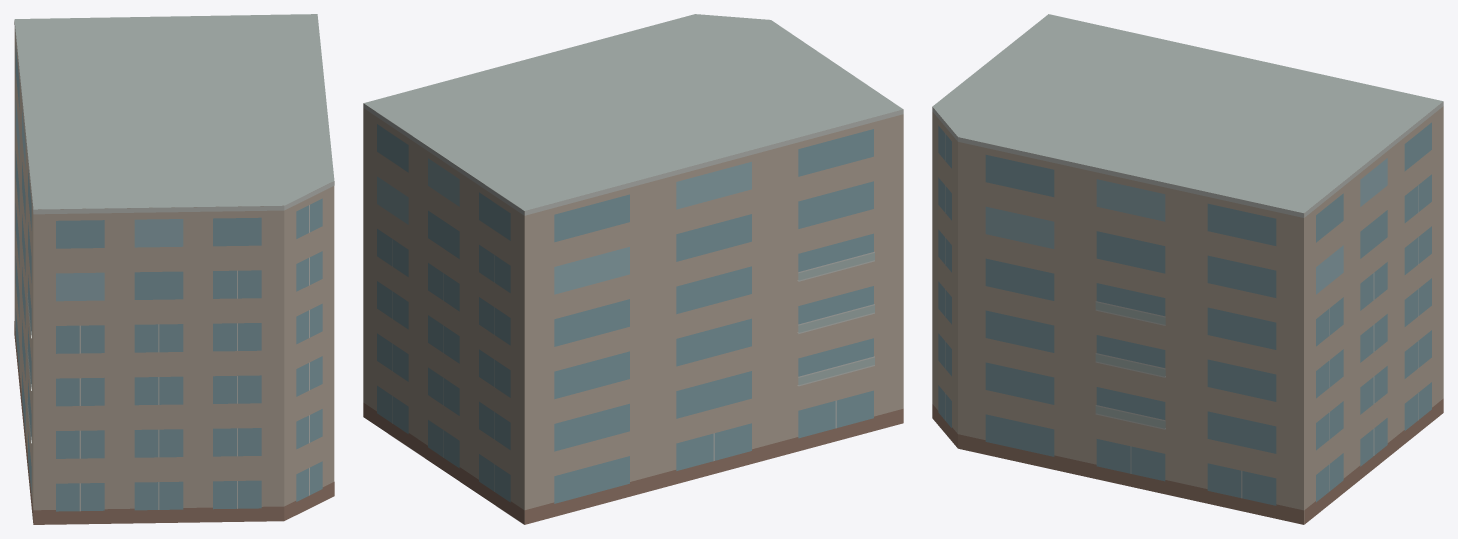
File: survey-upis-33044061.glb
3 views of the same model, side by side, from view 1: azimuth 30°, elevation 25°; view 2: azimuth 150°, elevation 25°; view 3: azimuth 270°, elevation 25° (orthographic).
Parts seen in each view (by area): view 1: survey-upis-33044061.tmp; view 2: survey-upis-33044061.tmp; view 3: survey-upis-33044061.tmp.
Boxes of the visible parts, x1=… form: survey-upis-33044061.tmp: x1=14, y1=14, x2=334, y2=524; survey-upis-33044061.tmp: x1=363, y1=14, x2=903, y2=524; survey-upis-33044061.tmp: x1=932, y1=14, x2=1443, y2=524.
Bounding box in the file's own units: 22.03 × 16.05 × 23.88.
